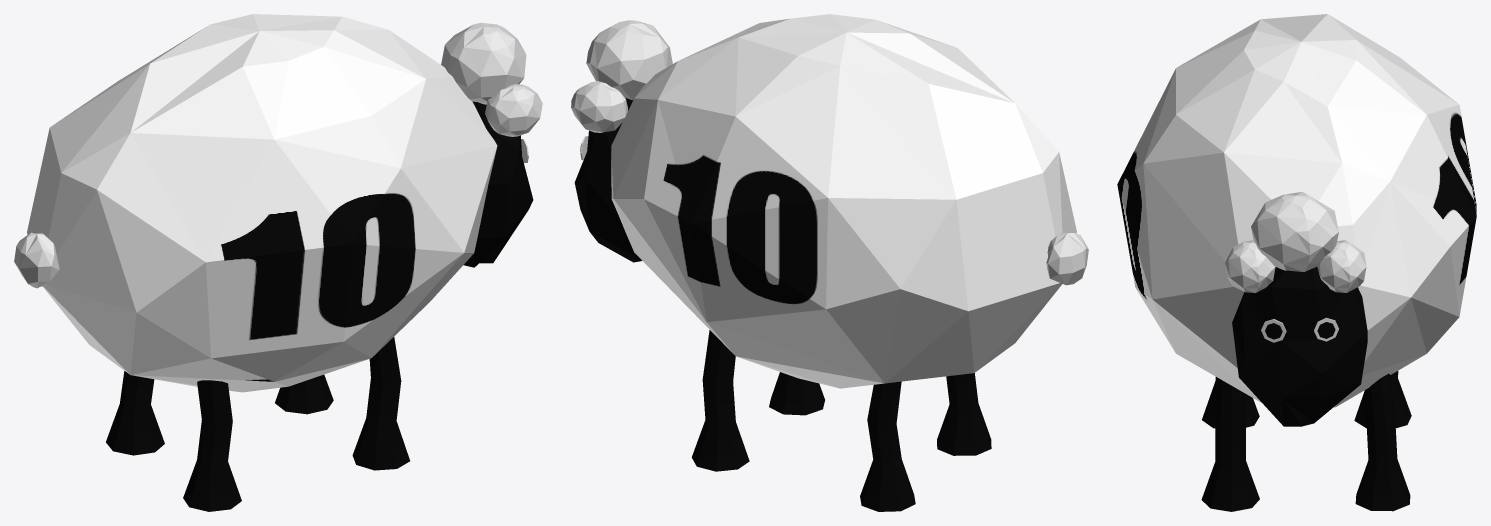
The model's file is sheep10.fbx.
3 views of the same model, side by side, from view 1: azimuth 30°, elevation 25°; view 2: azimuth 150°, elevation 25°; view 3: azimuth 270°, elevation 25° (orthographic).
Visible parts, largest first — view 1: pSphere1, pSphere7, pSphere4, pCylinder1, pCylinder5, pCylinder7, pSphere8, pSphere3, pCylinder6; view 2: pSphere1, pCylinder6, pSphere7, pCylinder7, pSphere4, pCylinder1, pSphere9, pSphere3, pCylinder5; view 3: pSphere1, pSphere4, pSphere7, pCylinder5, pCylinder6, pSphere8, pSphere9, pCylinder7, pCylinder1.
Boxes of the visible parts, x1,y1,x2,y2 form: pSphere1: (27,14,497,392); pSphere7: (441,22,526,104); pSphere4: (463,101,533,267); pCylinder1: (183,380,241,511); pCylinder5: (352,337,409,470); pCylinder7: (106,371,164,455); pSphere8: (485,84,542,136); pSphere3: (14,232,59,288); pCylinder6: (275,374,333,414); pSphere1: (611,14,1076,388); pCylinder6: (691,330,749,471); pSphere7: (586,20,672,100); pCylinder7: (860,381,915,511); pSphere4: (574,98,641,262); pCylinder1: (937,373,991,455); pSphere9: (571,81,627,132); pSphere3: (1046,232,1088,285); pCylinder5: (769,372,824,415); pSphere1: (1117,14,1476,407); pSphere4: (1232,266,1367,426); pSphere7: (1251,192,1338,271); pCylinder5: (1201,378,1259,511); pCylinder6: (1355,373,1410,511); pSphere8: (1225,240,1275,292); pSphere9: (1317,240,1366,292); pCylinder7: (1354,371,1411,428); pCylinder1: (1202,377,1259,428).
Size of the model in its own units: 3.08 by 2.46 by 1.93.
3 materials, 1 textured.
